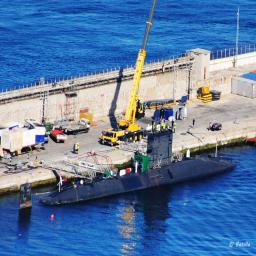submarine: (37, 121, 231, 208)
